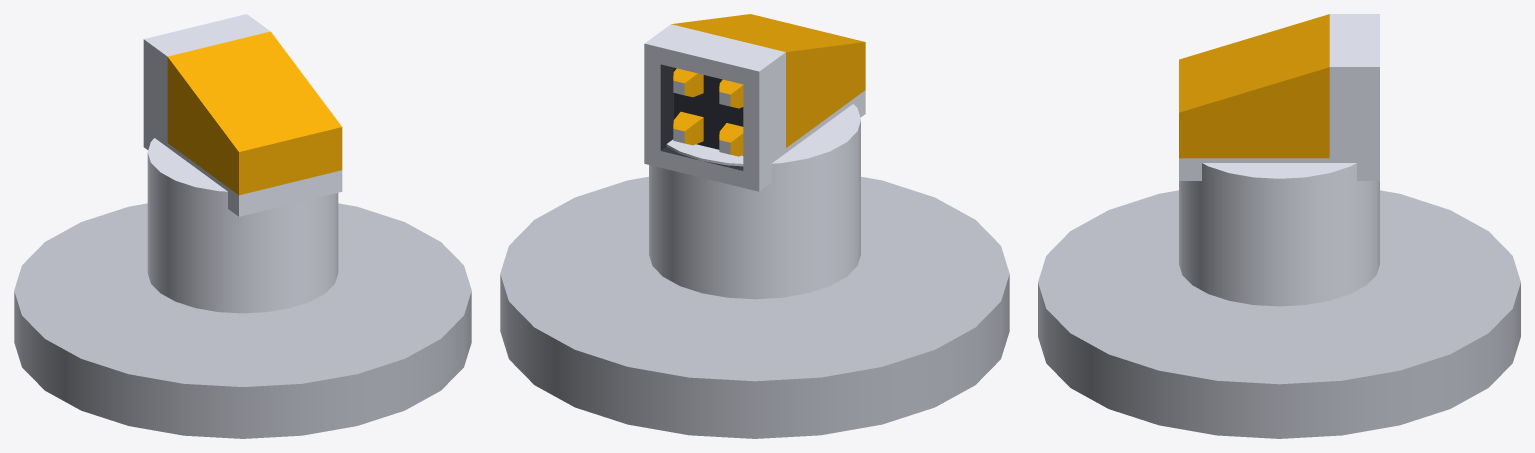
3 renders of one model, left to right at view 1: azimuth 30°, elevation 25°; view 2: azimuth 150°, elevation 25°; view 3: azimuth 270°, elevation 25°, orthographic. The views are drawn at different scales.
Visible parts, largest first — view 1: cylinder (×2), weapon_turret; view 2: cylinder (×2), weapon_turret; view 3: cylinder (×2), weapon_turret.
Part boxes in pixels (x1,y1,x2,y2): cylinder (×2): [14, 138, 471, 438]; weapon_turret: [143, 14, 342, 216]; cylinder (×2): [500, 104, 1009, 438]; weapon_turret: [644, 14, 865, 191]; cylinder (×2): [1038, 163, 1520, 438]; weapon_turret: [1179, 14, 1379, 180].
Size of the model in its own units: 2.4 by 1.62 by 2.4.
